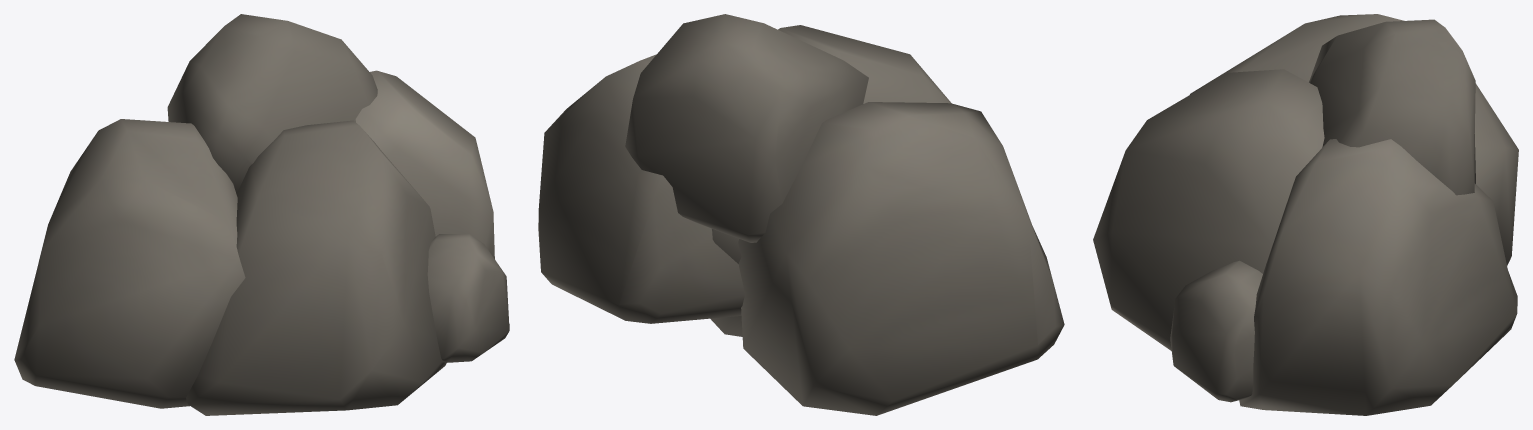
Rendered from rockCarryItemMesh2.fbx.
3 views of the same model, side by side, from view 1: azimuth 30°, elevation 25°; view 2: azimuth 150°, elevation 25°; view 3: azimuth 270°, elevation 25° (orthographic). The views are drawn at different scales.
Parts seen in each view (by area): view 1: carryRock2; view 2: carryRock2; view 3: carryRock2.
Boxes of the visible parts, <box> form: carryRock2: <box>14,14,509,415</box>; carryRock2: <box>538,14,1064,415</box>; carryRock2: <box>1093,14,1518,415</box>.
Bounding box in the file's own units: 78.05 × 52.62 × 58.37.
